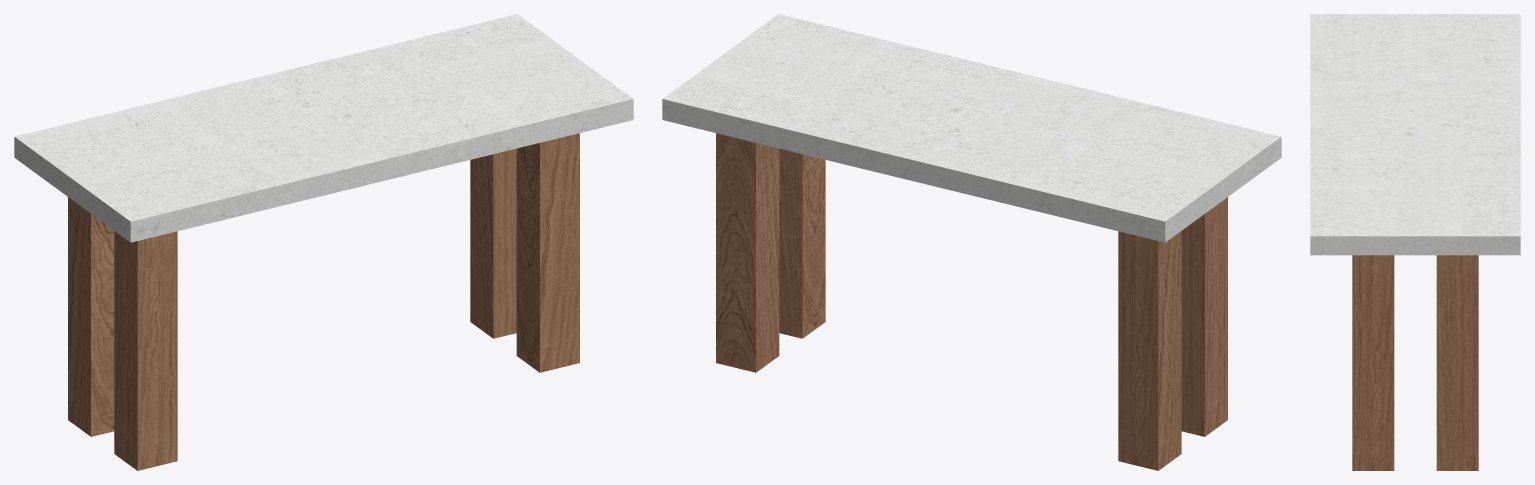
File: Crappy Table.fbx
3 renders of one model, left to right at view 1: azimuth 30°, elevation 25°; view 2: azimuth 150°, elevation 25°; view 3: azimuth 270°, elevation 25°, orthographic. The views are drawn at different scales.
Parts seen in each view (by area): view 1: Box001; view 2: Box001; view 3: Box001.
Part boxes in pixels (x1,y1,x2,y2): Box001: (14,14,633,470); Box001: (662,14,1281,470); Box001: (1310,14,1520,470).
Bounding box in the file's own units: 49.21 × 25.59 × 19.69.
1 material, 1 textured.
